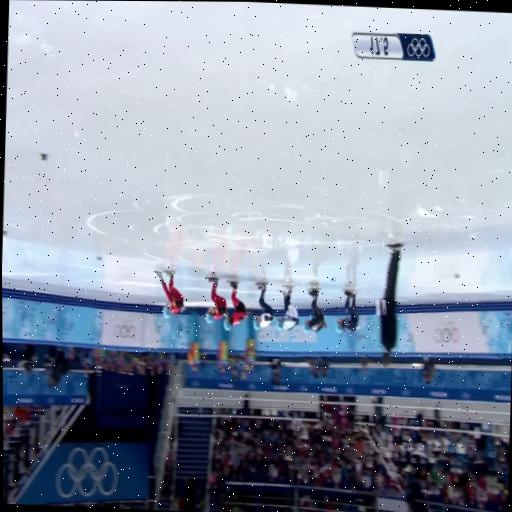Skater: (155, 270, 184, 317), (224, 282, 247, 329), (253, 282, 274, 329), (303, 287, 325, 331), (276, 286, 298, 329), (205, 277, 226, 322), (335, 291, 358, 332)
